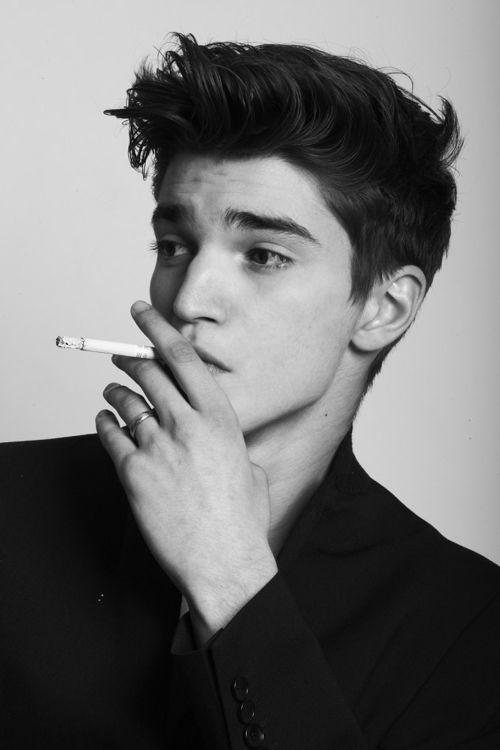cigarette: (55, 335, 164, 362)
